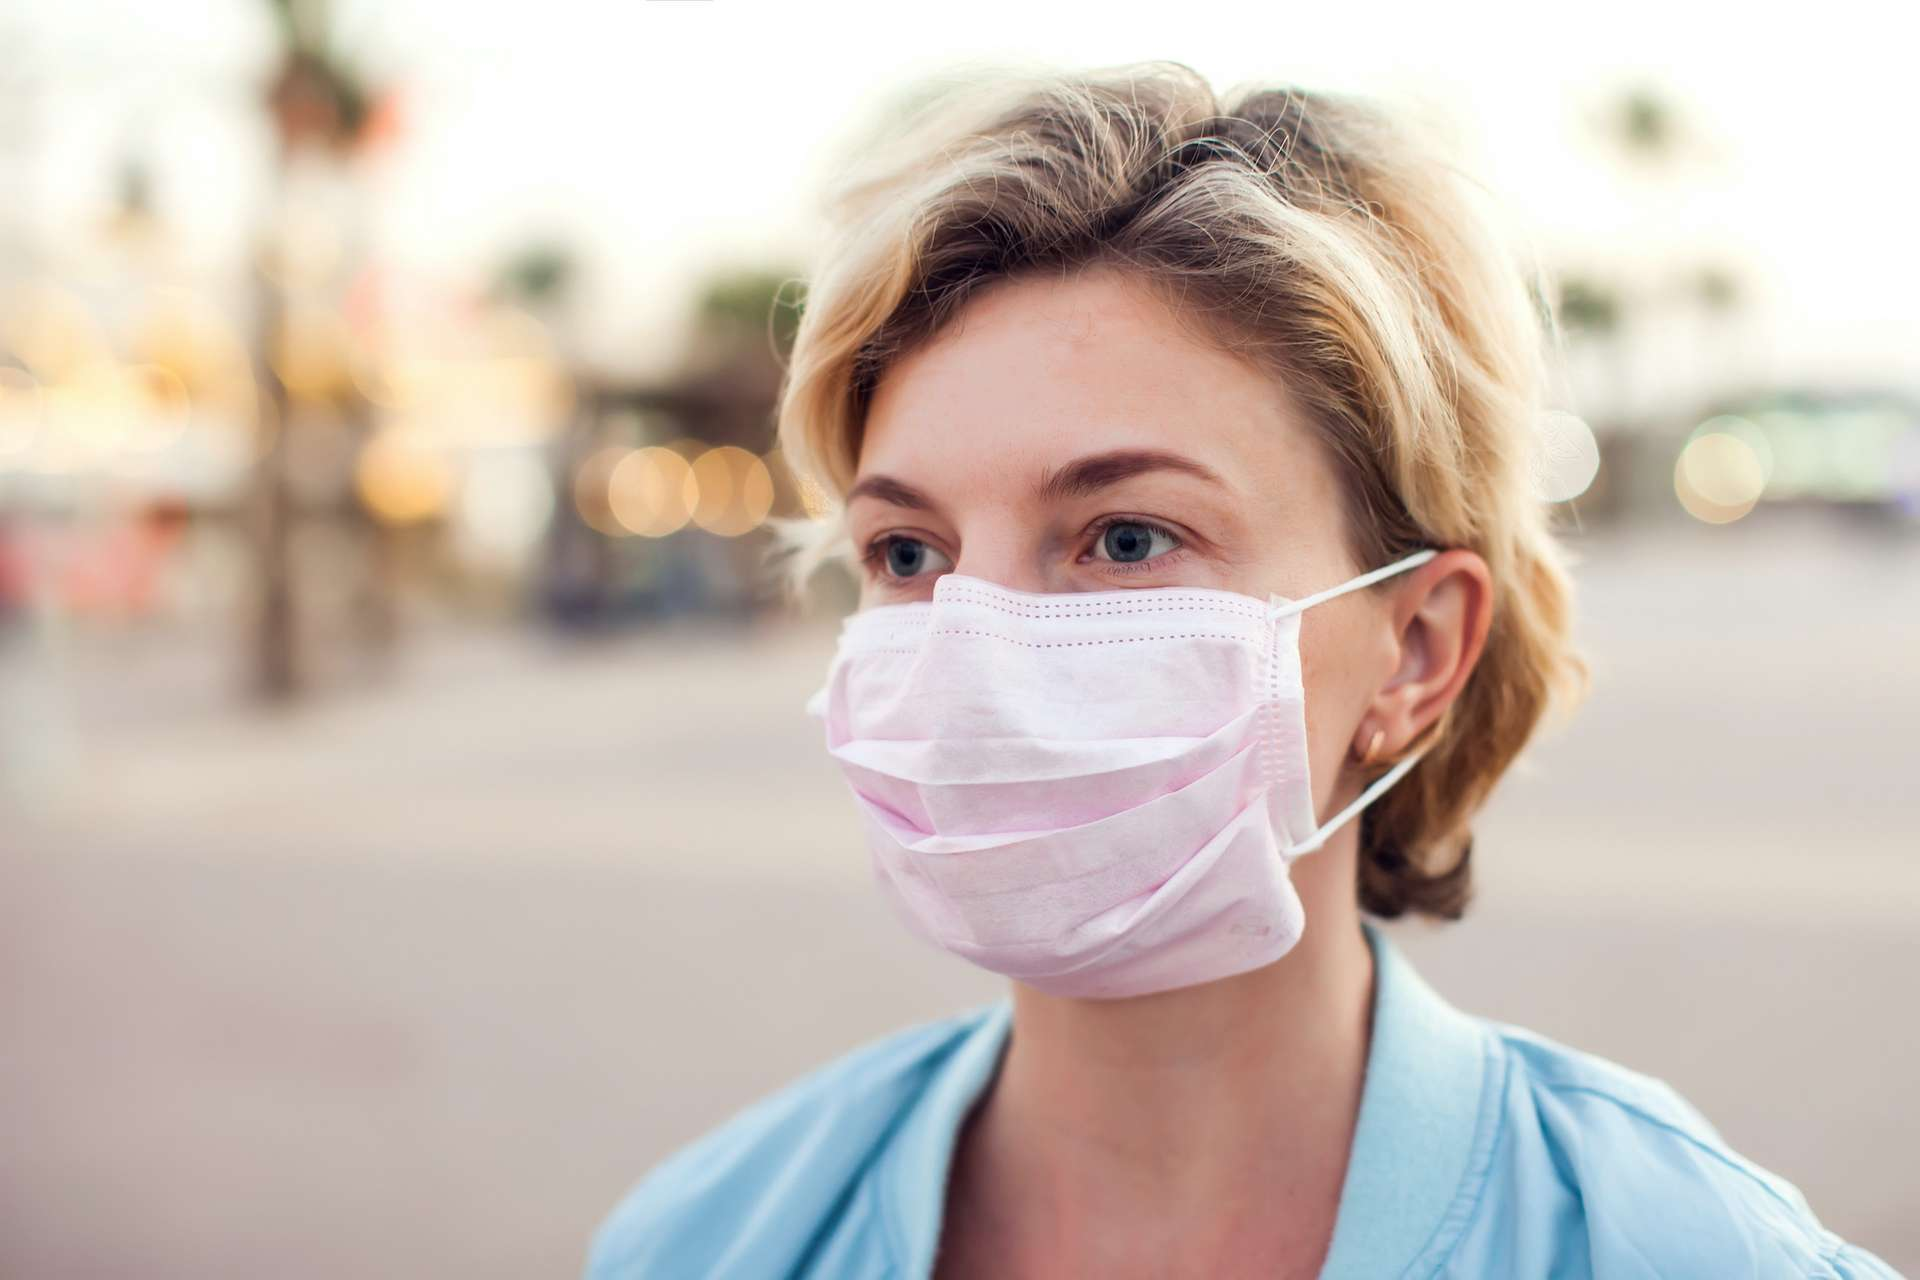with_mask: (805, 417, 1355, 978)
